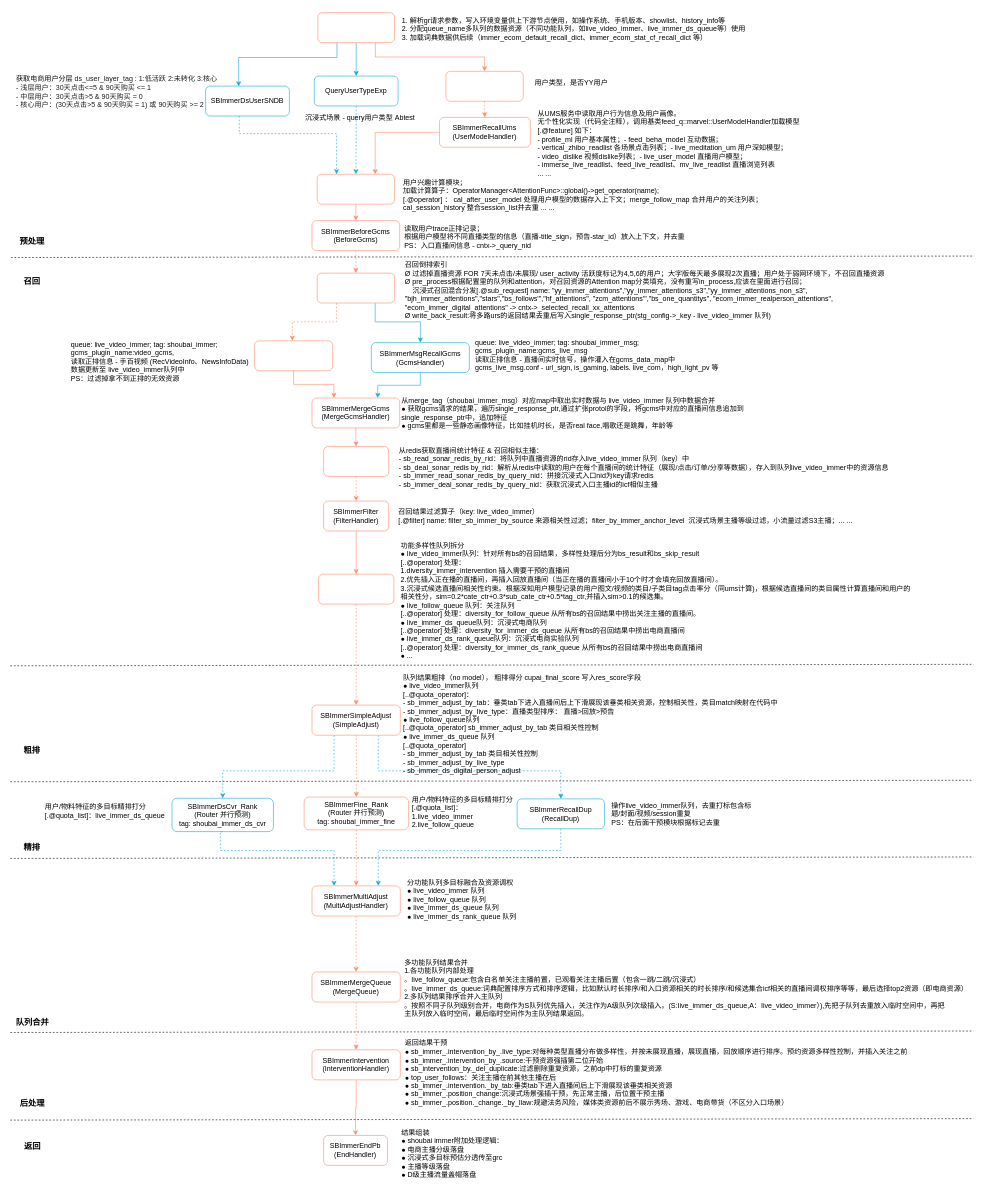
This 985x1191 diagram has some shape labels left out. Each missing label, with the centre of its shape:
"ImmerseSonar (SonarHandler)" goes at pixel 356 461.
"QueryUserType (UserTypeHandler)" goes at pixel 484 86.
"SBImmerAttention (AttentionHandler)" goes at pixel 356 189.
"SBImmerDiversity (DiversityHandler)" goes at pixel 356 589.
"SBImmerRecallGcms (GcmsHandler)" goes at pixel 293 355.
"SBImmerRecallUrs (RecallUrsHandler)" goes at pixel 356 288.
"SBImmerStartPb （StartHandler）" goes at pixel 356 27.
